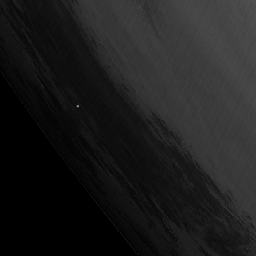Target: (75, 103, 81, 109)
